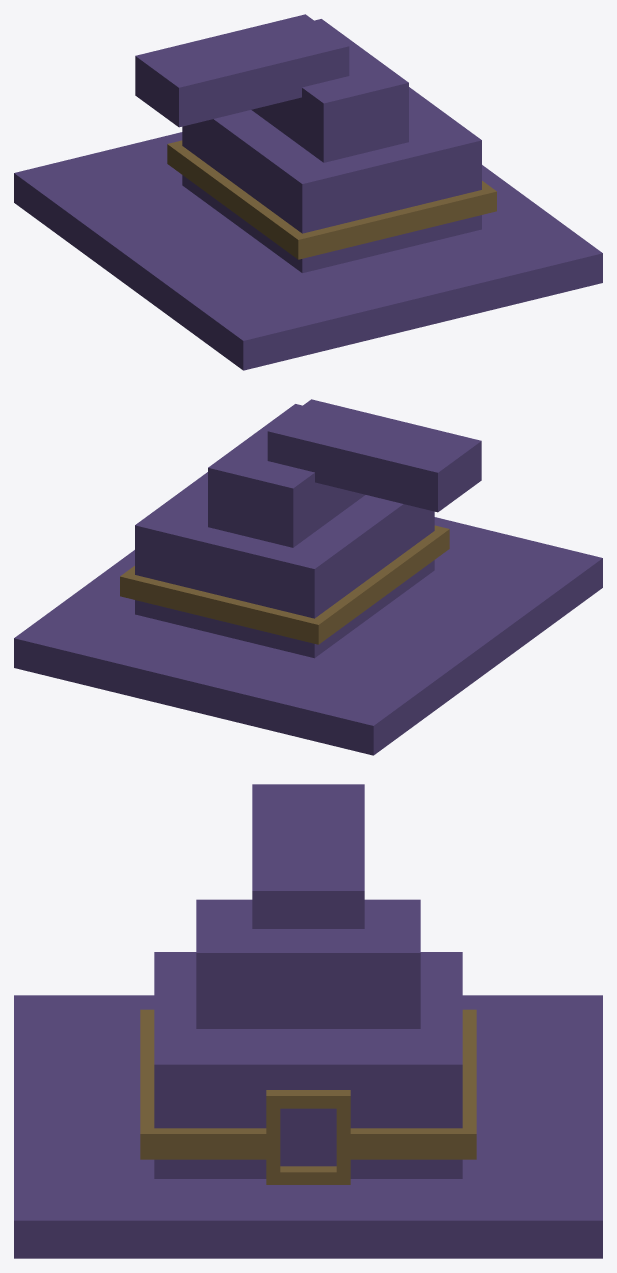
Rendered from witch1.obj.
The picture shows the model from 3 angles, top to bottom: view 1: azimuth 30°, elevation 25°; view 2: azimuth 150°, elevation 25°; view 3: azimuth 270°, elevation 25°; orthographic projection. The views are drawn at different scales.
Size of the model in its own units: 38 by 21 by 42.
Materials: 1 (1 with a texture image).
